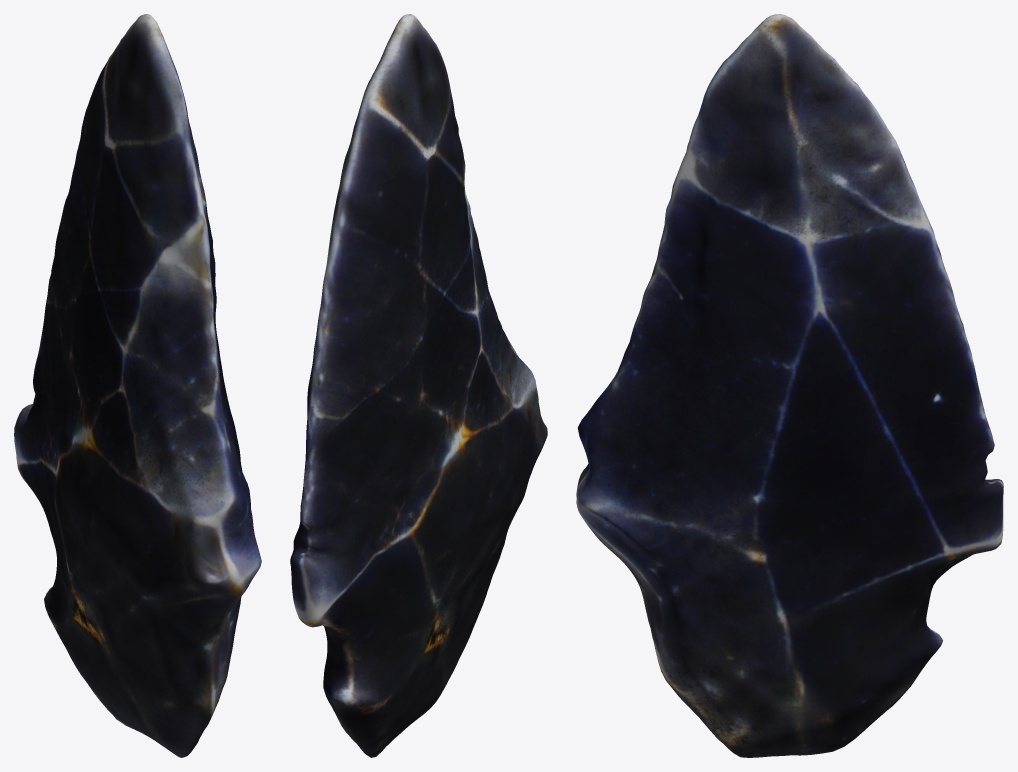
File: e61bebe5b864_an_obsidian_shard_m.fbx
The picture shows the model from 3 angles, left to right: view 1: azimuth 30°, elevation 25°; view 2: azimuth 150°, elevation 25°; view 3: azimuth 270°, elevation 25°; orthographic projection.
Parts seen in each view (by area): view 1: mesh; view 2: mesh; view 3: mesh.
Boxes of the visible parts, left/top/right/bottom form: mesh: left=14, top=14, right=261, bottom=757; mesh: left=290, top=14, right=547, bottom=757; mesh: left=576, top=14, right=1003, bottom=757.
Size of the model in its own units: 17.93 by 99.75 by 52.56.
